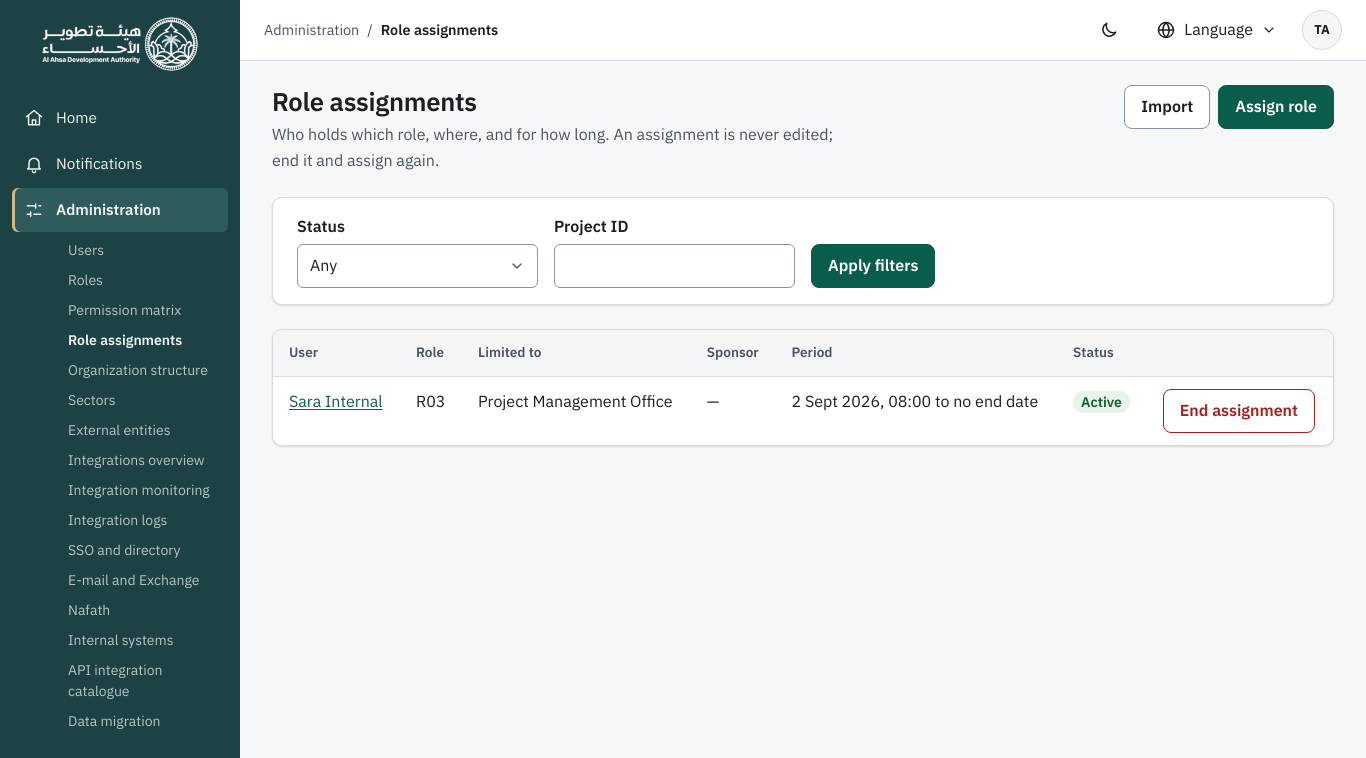
Scenario: MOD-081 and MOD-082 assign role › ending an assignment asks first, then ends it
Click the button named "End assignment R03" at (1239, 411), box [1163,389,1315,433]
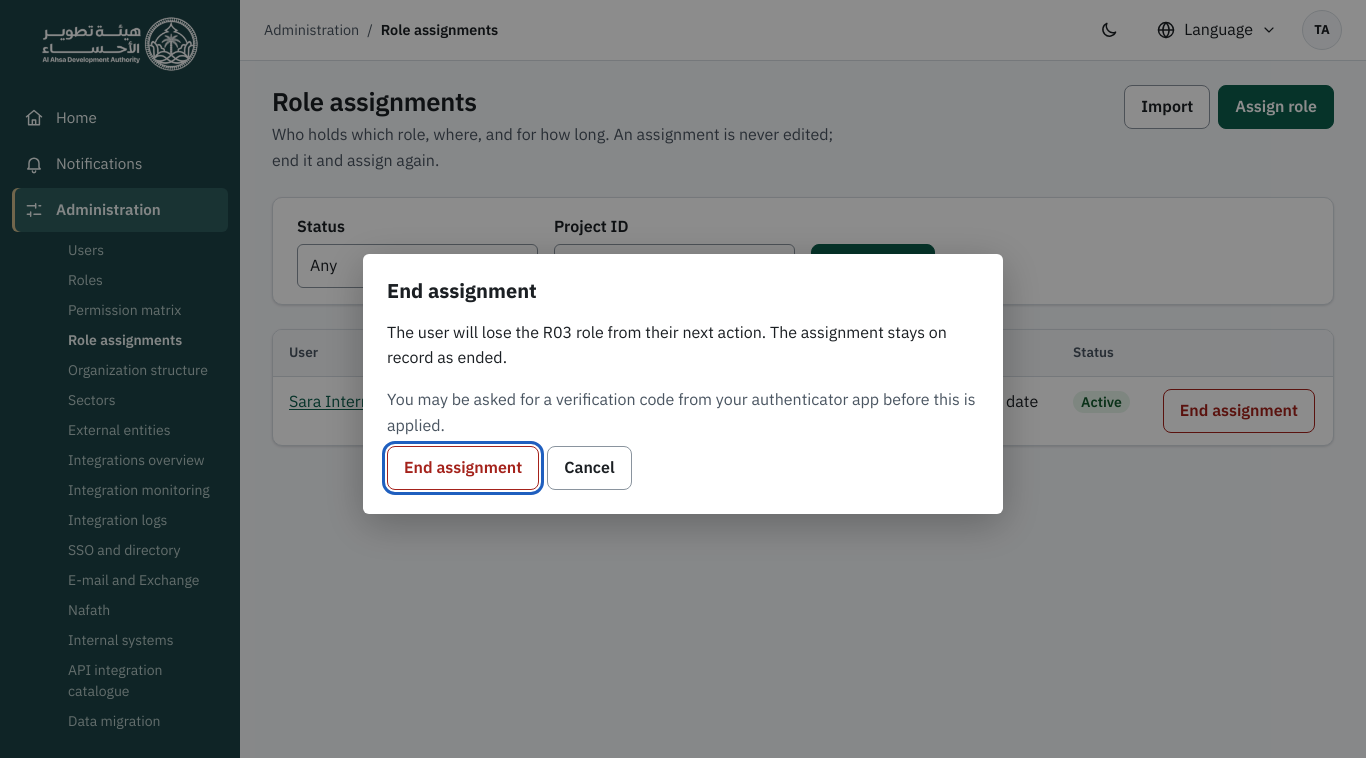
Click the button "End assignment" at (463, 468), box [387,446,539,490]
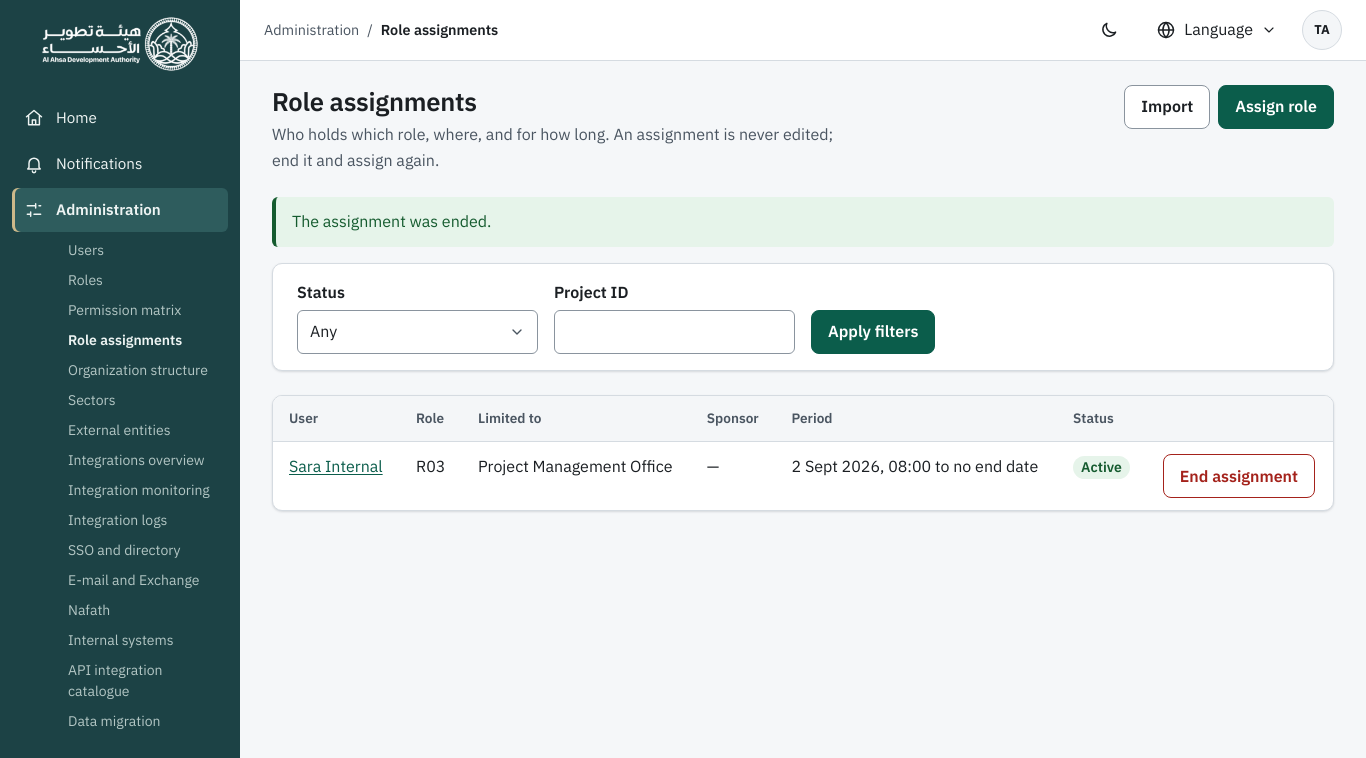
expect the text "The assignment was ended." is shown: met, box [272,198,1334,247]
